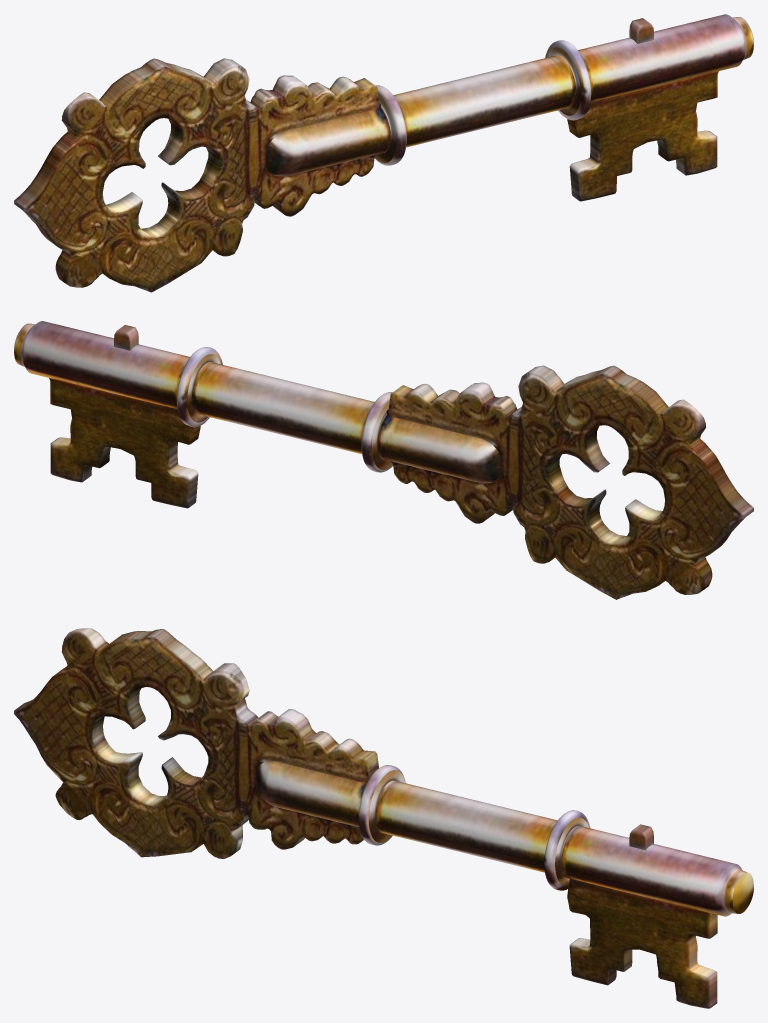
File: old gold key.fbx
3 views of the same model, one above another, from view 1: azimuth 30°, elevation 25°; view 2: azimuth 150°, elevation 25°; view 3: azimuth 330°, elevation 25° (orthographic).
Visible parts, largest first — view 1: Material-material, Circle_001; view 2: Material-material, Circle_001; view 3: Material-material, Circle_001.
Boxes of the visible parts, x1=… form: Material-material: x1=14, y1=18, x2=718, y2=292; Circle_001: x1=265, y1=14, x2=753, y2=176; Material-material: x1=49, y1=325, x2=753, y2=599; Circle_001: x1=14, y1=321, x2=501, y2=483; Material-material: x1=14, y1=628, x2=717, y2=1008; Circle_001: x1=255, y1=761, x2=753, y2=916.
Bounding box in the file's own units: 75.31 × 23.65 × 7.32.
2 materials, 2 textured.
